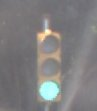Green: (30, 28, 66, 110)
